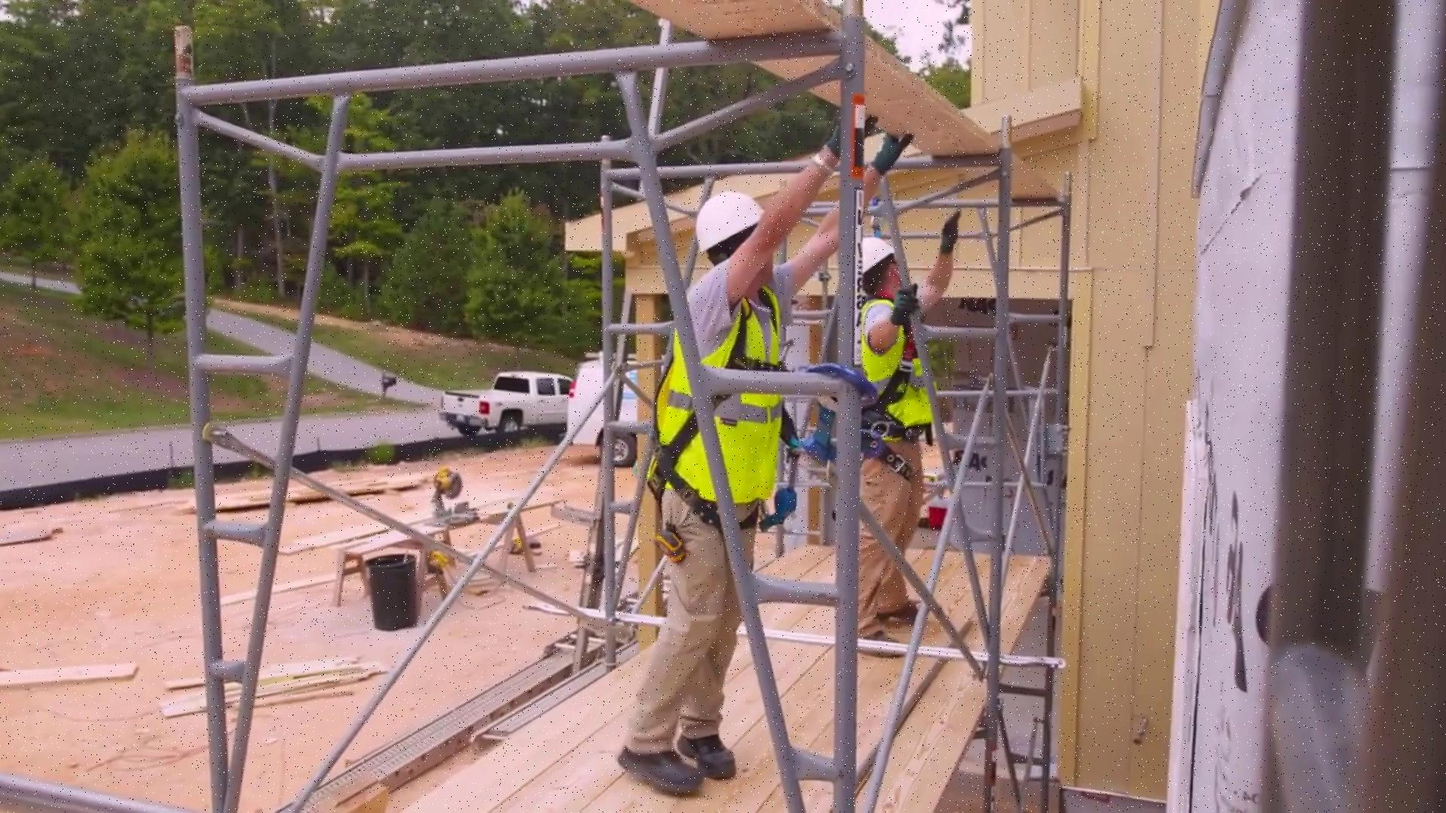Hard_hat: (690, 178, 769, 257), (840, 232, 894, 283)
Vest: (662, 294, 801, 508), (853, 310, 935, 438)
